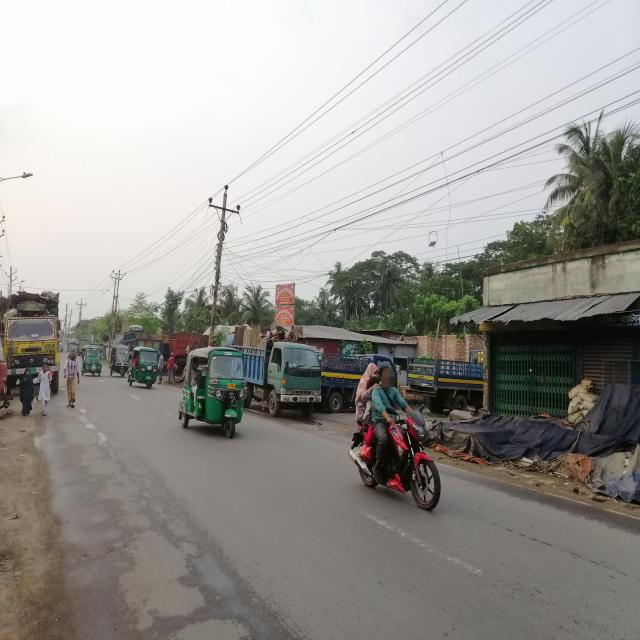CNG: (182, 347, 255, 441)
Motorbike: (346, 398, 455, 514)
